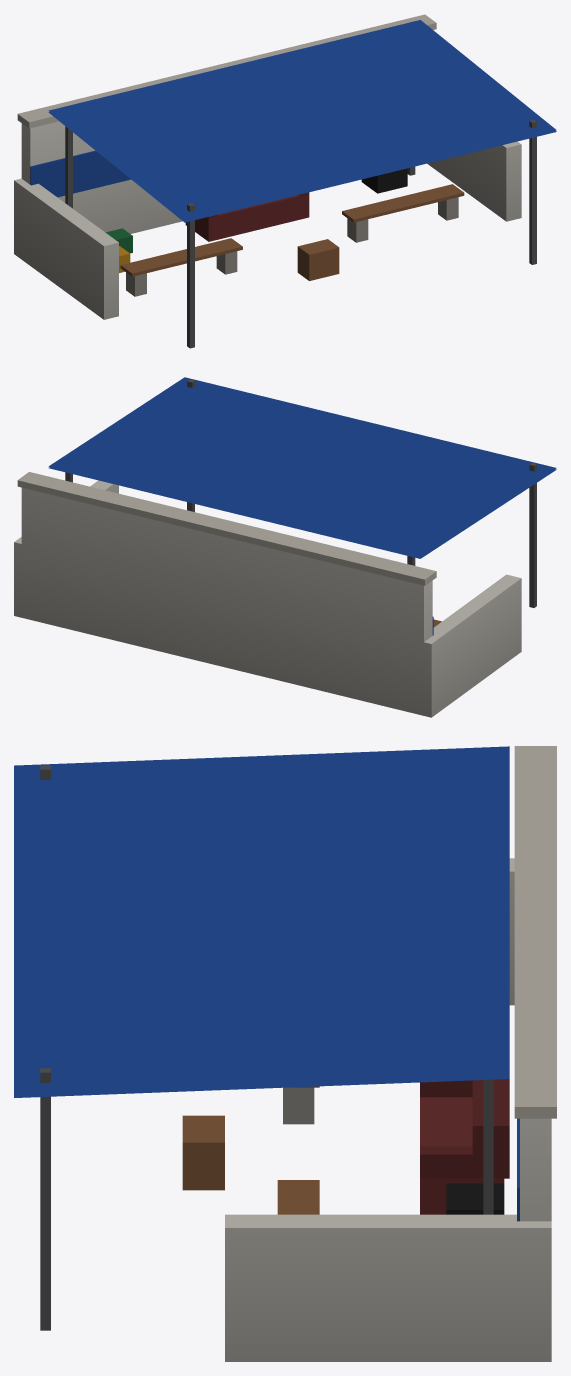
The model's file is ub_base_blue.glb.
3 views of the same model, one above another, from view 1: azimuth 30°, elevation 25°; view 2: azimuth 150°, elevation 25°; view 3: azimuth 270°, elevation 25° (orthographic). The views are drawn at different scales.
Parts seen in each view (by area): view 1: ub_base_blue; view 2: ub_base_blue; view 3: ub_base_blue.
Part boxes in pixels (x1,y1,x2,y2): ub_base_blue: (14,14,556,348); ub_base_blue: (14,377,556,717); ub_base_blue: (14,746,556,1361).
Size of the model in its own units: 8.3 by 2.78 by 5.15.
